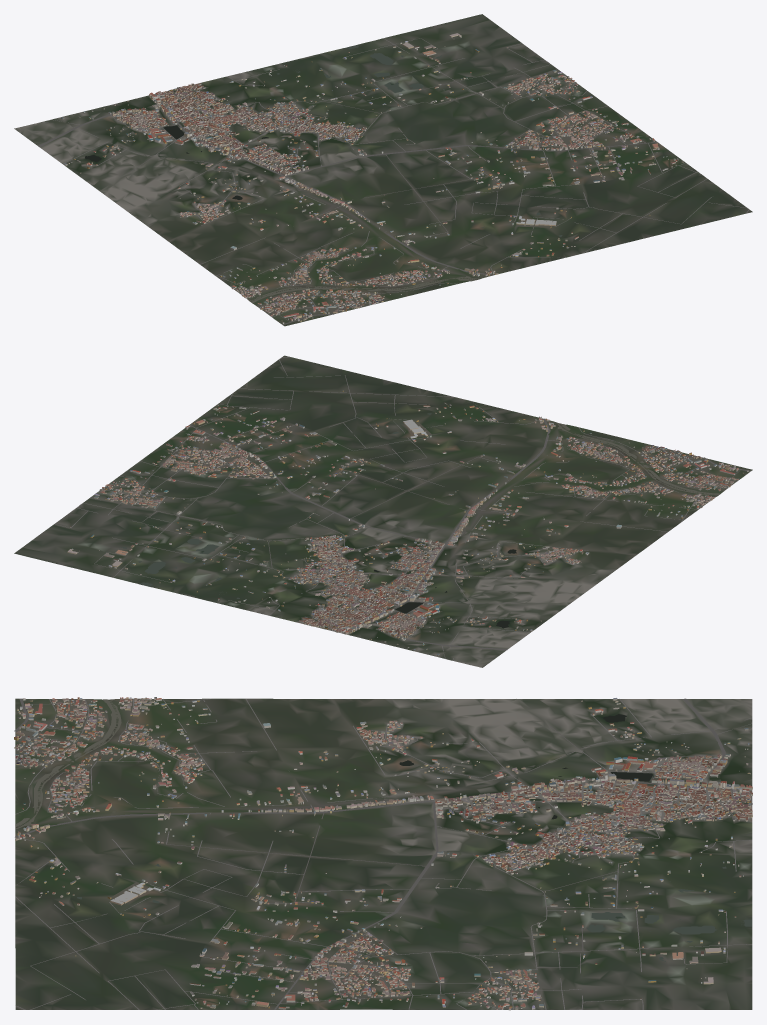
The picture shows the model from 3 angles, top to bottom: view 1: azimuth 30°, elevation 25°; view 2: azimuth 150°, elevation 25°; view 3: azimuth 270°, elevation 25°; orthographic projection. The views are drawn at different scales.
Visible parts, largest first — view 1: ground, buildings, roads, water; view 2: ground, buildings, roads, water; view 3: ground, buildings, roads, water.
Boxes of the visible parts, <box> form: ground: <box>14,14,752,326</box>; buildings: <box>60,33,683,323</box>; roads: <box>38,38,749,325</box>; water: <box>85,45,562,303</box>; ground: <box>14,355,752,667</box>; buildings: <box>67,390,748,655</box>; roads: <box>54,357,750,661</box>; water: <box>119,413,720,628</box>; ground: <box>15,698,752,1009</box>; buildings: <box>14,697,752,1010</box>; roads: <box>14,698,752,1009</box>; water: <box>15,699,751,961</box>.
Size of the model in its own units: 2811 by 30.03 by 2812.
